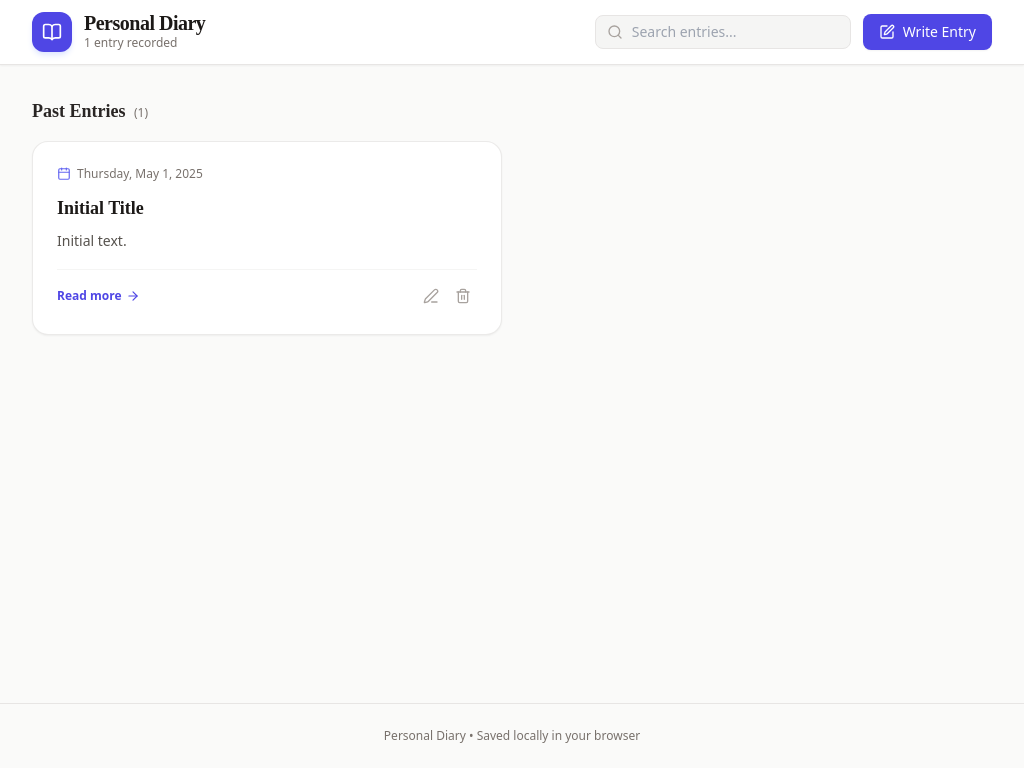
Test: Personal Diary App › allows user to edit an existing entry
Click the button named "Edit Initial Title" at x=431, y=296, box left=417, top=282, right=445, bottom=310
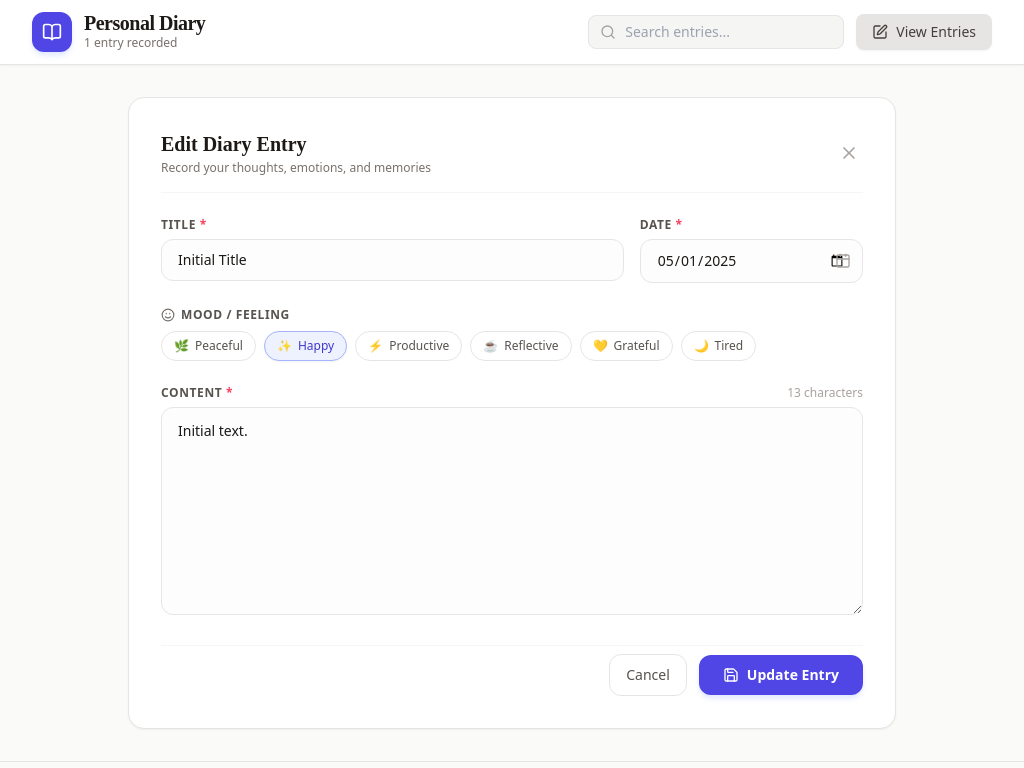
Now the heading "Edit Diary Entry" is shown, box left=161, top=133, right=307, bottom=155
Replace the text in the field labelled "Title *" with "Updated Title" at x=392, y=260, box left=161, top=239, right=624, bottom=281
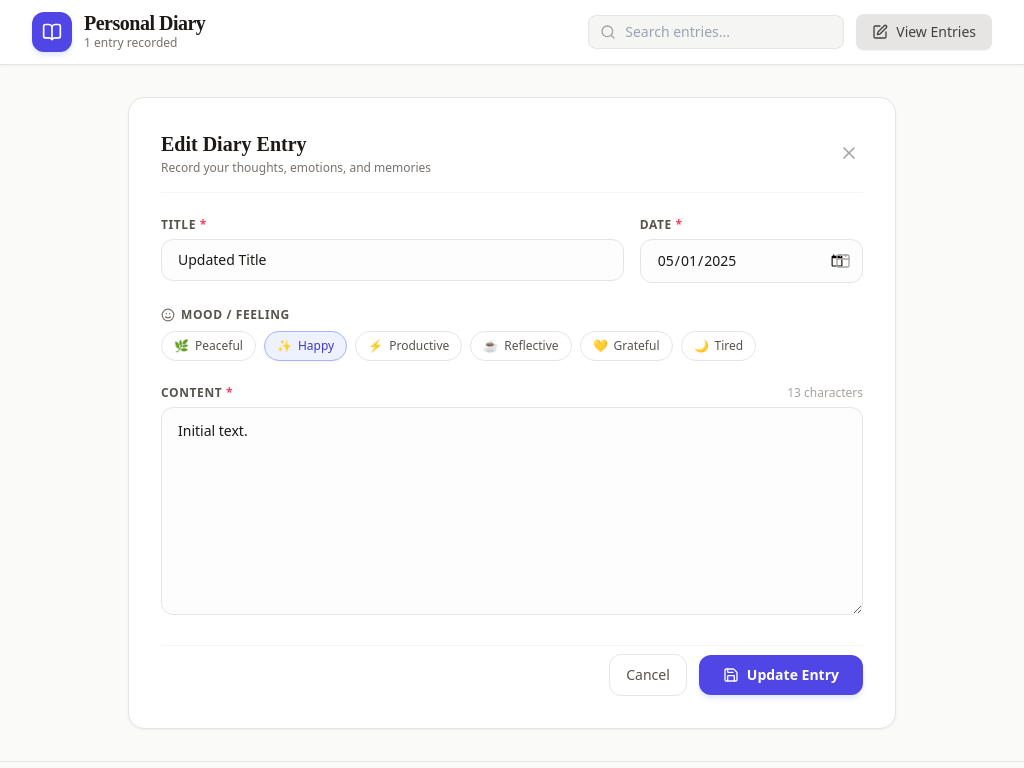
Click the button "Update Entry" at x=781, y=675, box left=699, top=655, right=863, bottom=695
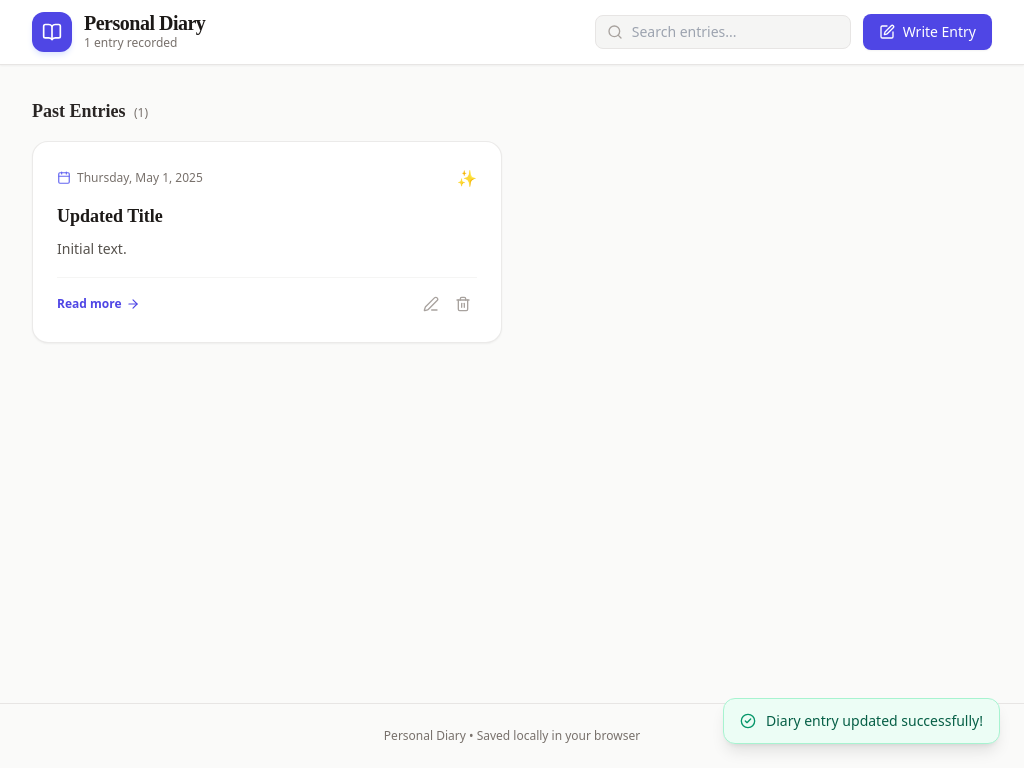
Expected: the heading "Initial Title" is not shown
Now the heading "Updated Title" is shown, box left=57, top=206, right=163, bottom=226
